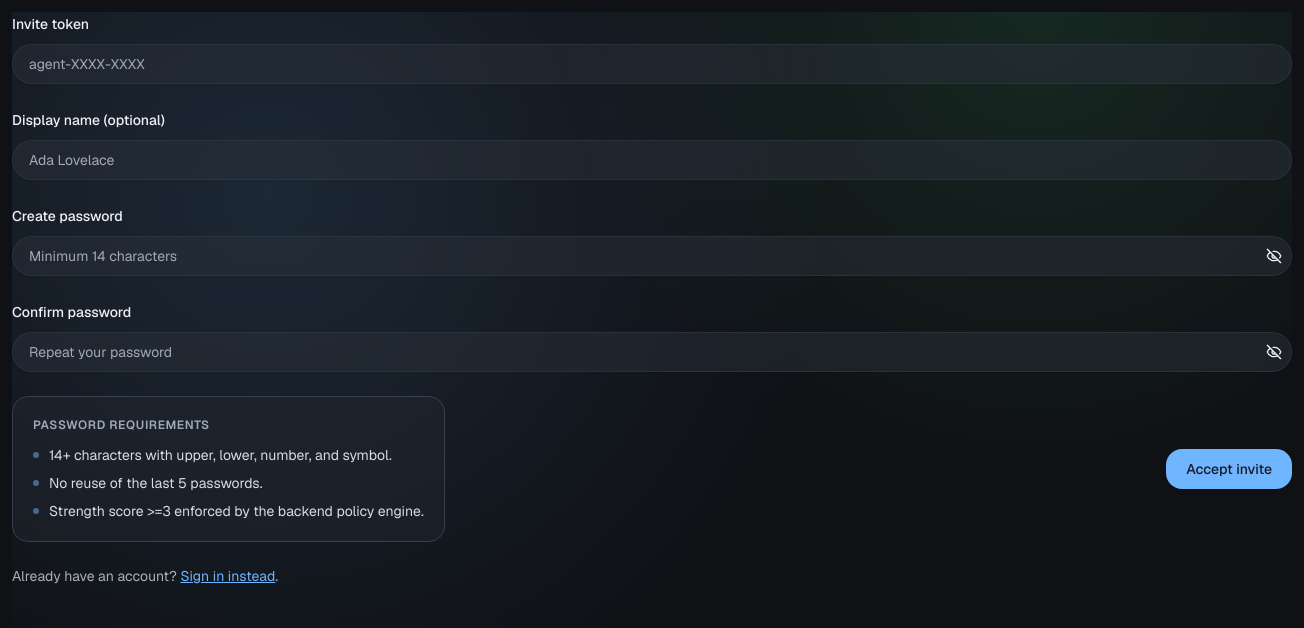
Scenario: AcceptInviteForm › requires an invite token
The width and height of the screenshot is (1304, 628).
Type "supersecurepassword" into the password field labelled "Create password".
click(652, 256); type("supersecurepassword")  # box [12, 236, 1292, 276]
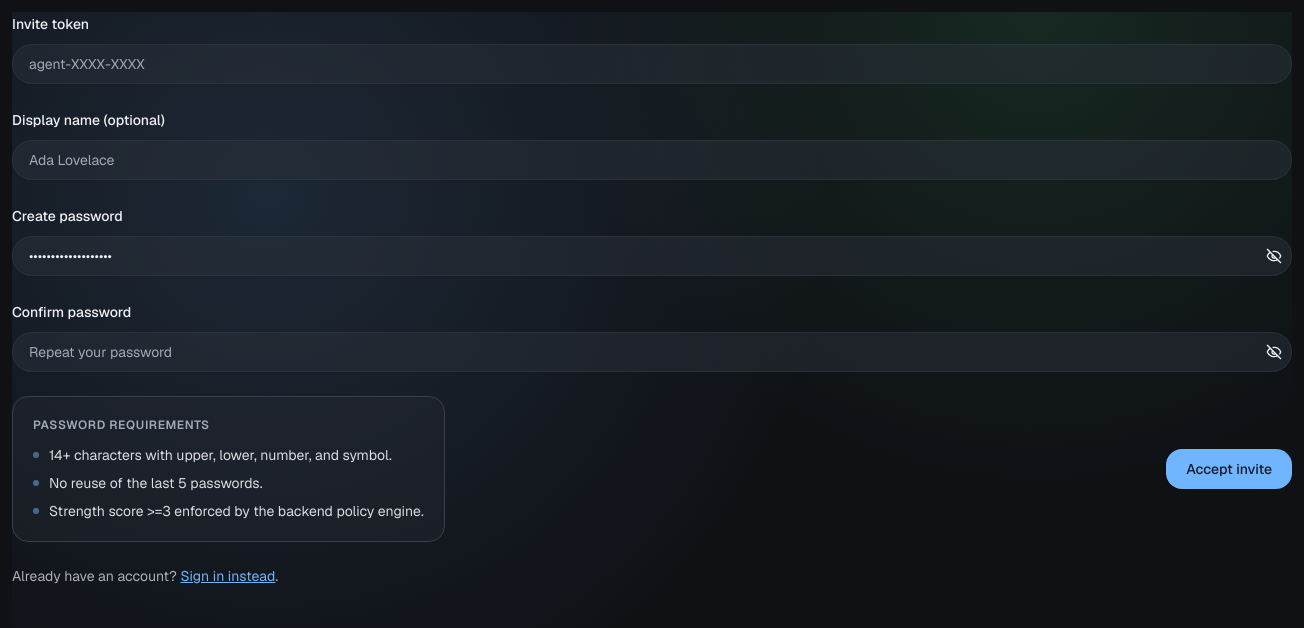
Type "supersecurepassword" into the password field labelled "Confirm password".
click(652, 352); type("supersecurepassword")  # box [12, 332, 1292, 372]
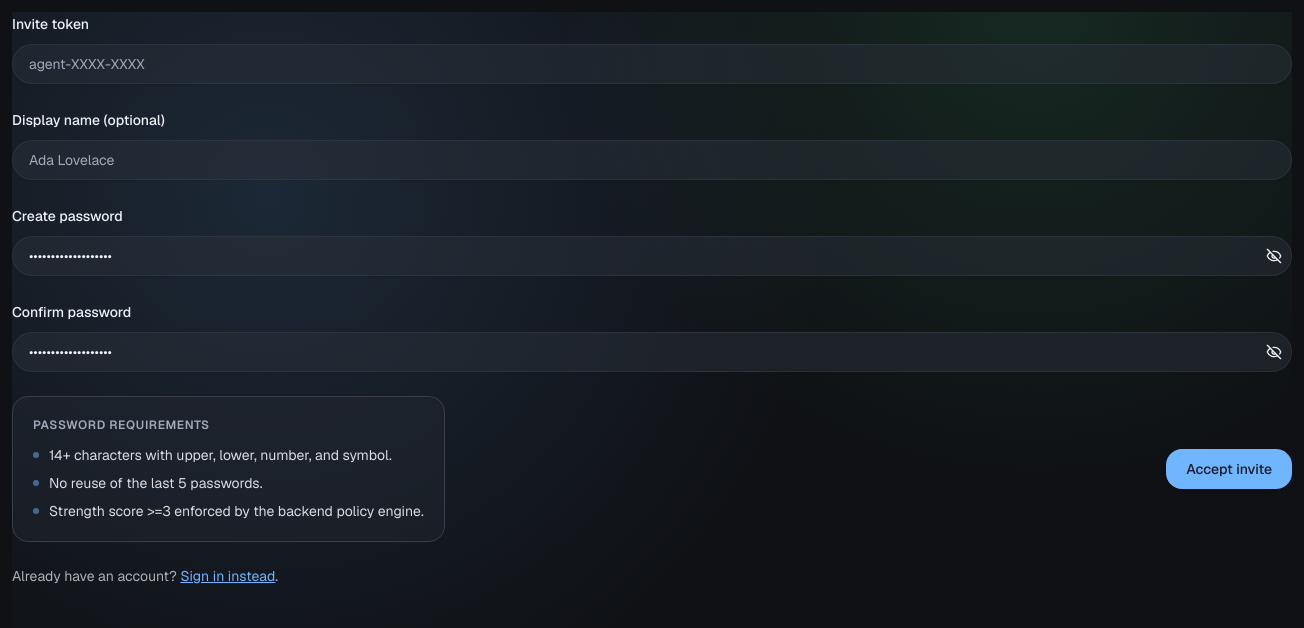
Click the button "Accept invite".
click(1229, 469)  # box [1166, 449, 1292, 489]
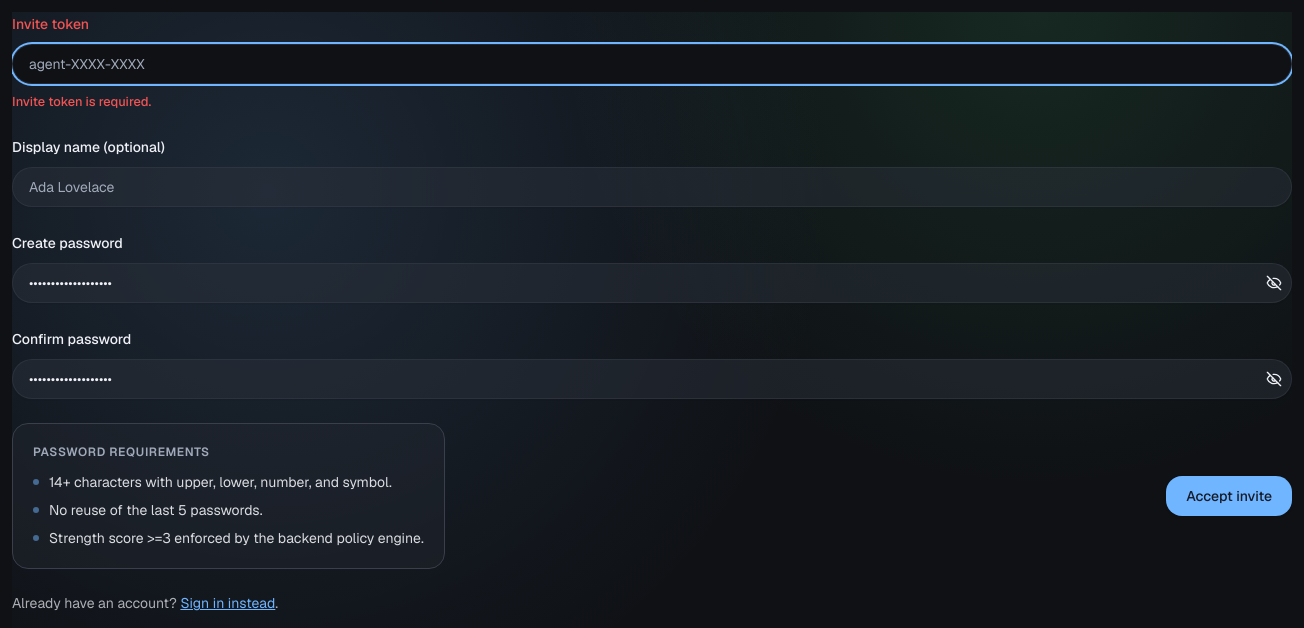
Result: the text "Invite token is required." is shown at [12, 93, 151, 110]
